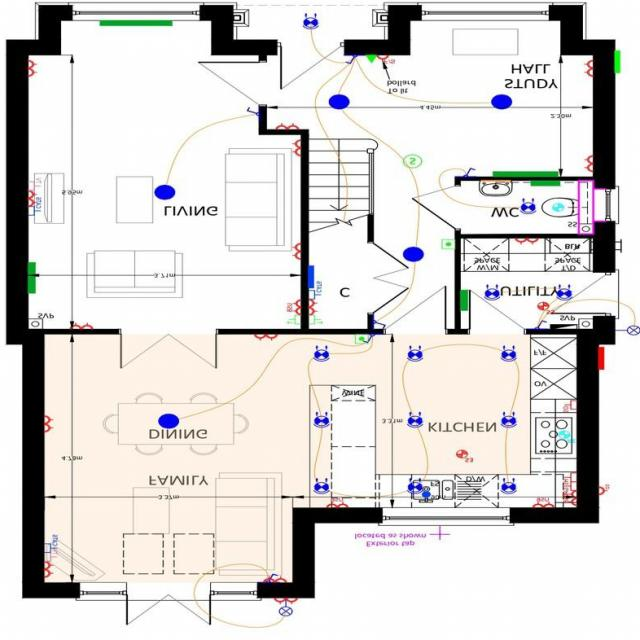BT Entry Point: (366, 56, 374, 64)
Cat 6 Data Socket: (308, 281, 321, 300), (44, 536, 57, 554), (28, 198, 40, 216)
Ceiling Mounted Continuous Extract FanWith Boost Mode Activated By Light Switch: (552, 204, 564, 212)
Ceiling Mounted Continuous Extract FanWith Local Boost Switch: (536, 303, 554, 316), (455, 451, 472, 464)
Co-Ax TV Socket: (44, 552, 56, 564), (28, 179, 40, 191)
D: (274, 599, 296, 606)
Double Socket: (290, 244, 300, 261), (43, 416, 53, 433), (290, 140, 300, 157), (514, 239, 538, 246), (253, 335, 277, 342), (263, 576, 284, 584), (69, 323, 92, 330), (308, 300, 318, 316), (44, 562, 53, 579), (583, 156, 592, 173), (274, 124, 298, 130), (28, 61, 36, 78), (28, 190, 36, 207), (583, 62, 592, 77)
Electric Meter Box: (597, 348, 603, 370)
External Wall Light: (615, 326, 640, 336), (278, 602, 292, 617)
Fused spur: (376, 56, 394, 65)
Gas Meter Box: (613, 51, 620, 74)
Grid Switch: (562, 483, 576, 497)
Hob Switch: (562, 474, 576, 485)
Light Switch: (266, 574, 278, 585), (534, 320, 546, 330), (246, 108, 258, 118), (373, 321, 385, 330), (362, 336, 374, 344), (344, 57, 356, 65)
Low Energy Downlighter: (312, 412, 329, 429), (406, 346, 423, 363), (555, 285, 572, 302), (406, 412, 422, 429), (519, 199, 536, 215), (312, 479, 328, 495), (313, 347, 329, 363), (406, 479, 422, 495), (500, 479, 516, 495), (500, 413, 516, 429), (483, 285, 499, 301), (302, 14, 318, 30), (500, 346, 515, 363)
Low Energy Pendant Light: (157, 414, 178, 430), (402, 248, 424, 263), (328, 95, 348, 111), (491, 95, 512, 110), (154, 186, 174, 200)
Mains Wired Smoke Detector: (402, 156, 421, 170)
Outside Socket: (598, 484, 609, 496)
Outside Tap: (429, 527, 450, 541)
Oven Switch: (562, 402, 576, 414)
Programmable Room Thermostat: (354, 336, 368, 344), (442, 241, 454, 250)
Radiator: (99, 21, 172, 27), (493, 172, 557, 177), (27, 263, 35, 294), (460, 291, 468, 312), (531, 182, 558, 186)
Recirculating Extractor Fan: (558, 432, 574, 444)
Telephone Socket: (286, 316, 300, 326), (308, 316, 322, 326)
USB Double Socket: (531, 497, 552, 509), (326, 498, 348, 509), (286, 300, 300, 316), (562, 492, 576, 507)
Underfloor Heating Manifold: (308, 266, 313, 289)
Water Entry Position: (421, 492, 430, 498)
